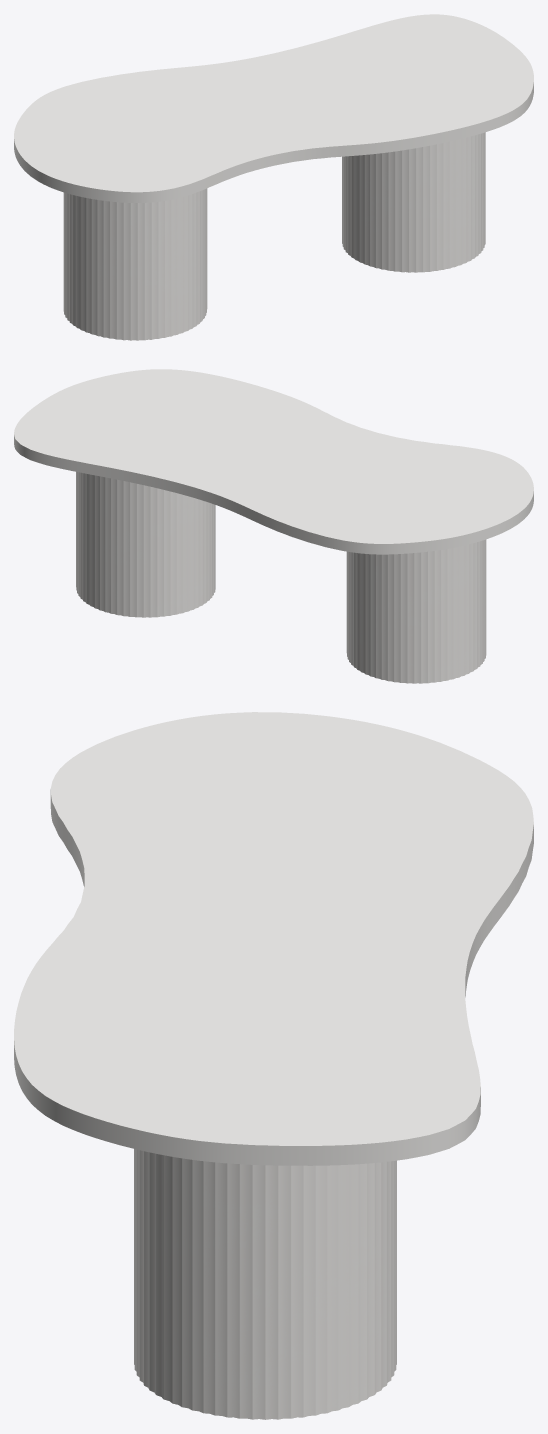
The model's file is purewhite_wave_standard_ripplesecond.glb.
The picture shows the model from 3 angles, top to bottom: view 1: azimuth 30°, elevation 25°; view 2: azimuth 150°, elevation 25°; view 3: azimuth 270°, elevation 25°; orthographic projection. The views are drawn at different scales.
Parts seen in each view (by area): view 1: standard_wave, ripplesecond; view 2: standard_wave, ripplesecond; view 3: standard_wave, ripplesecond.
Part boxes in pixels (x1,y1,x2,y2): standard_wave: [14, 14, 533, 202]; ripplesecond: [63, 132, 485, 340]; standard_wave: [14, 369, 533, 554]; ripplesecond: [76, 472, 486, 683]; standard_wave: [14, 712, 533, 1165]; ripplesecond: [134, 1149, 396, 1419].
Size of the model in its own units: 7.5 by 2.51 by 3.8.
Materials: 1 (1 with a texture image).
